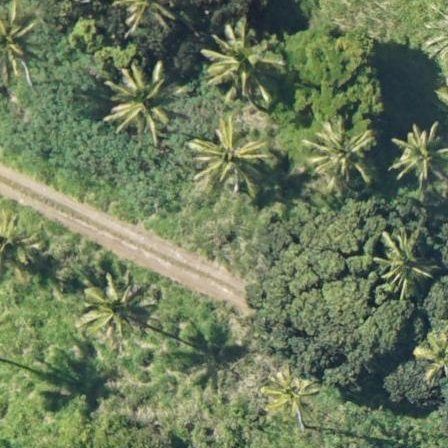palm_tree: (204, 23, 282, 103), (101, 59, 179, 138), (189, 116, 265, 197), (76, 272, 151, 349), (300, 119, 376, 194), (391, 124, 448, 183), (376, 231, 432, 288), (263, 370, 315, 419)
